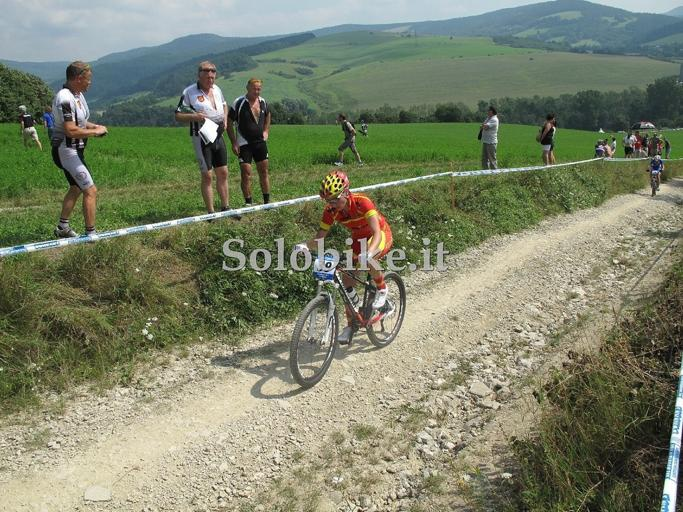non-vehicle: (288, 250, 405, 388), (645, 168, 663, 196)
